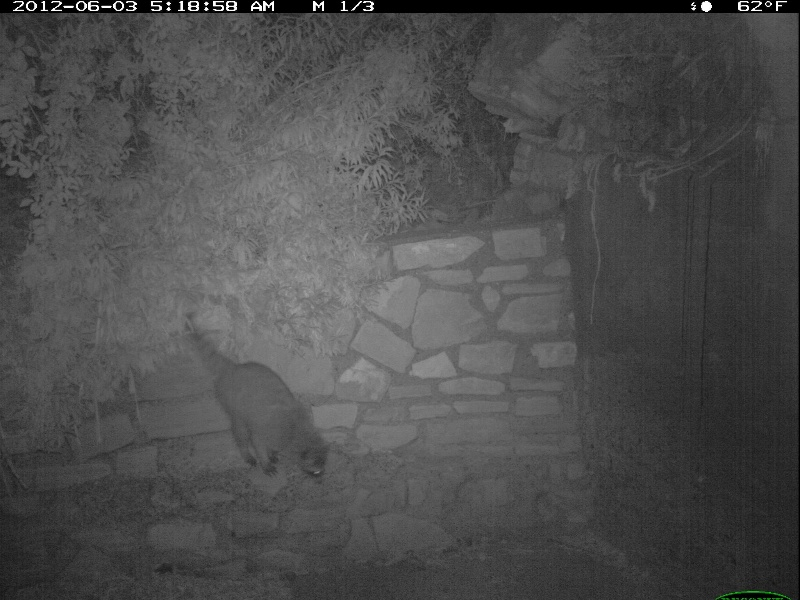raccoon: (181, 311, 330, 486)
